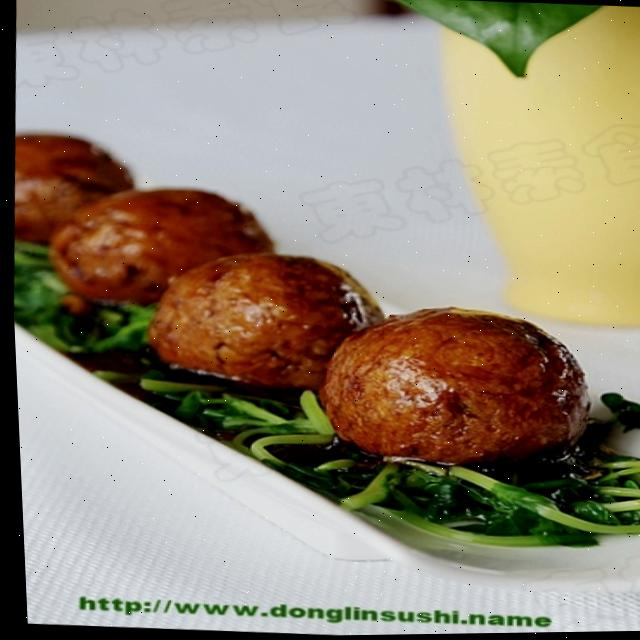猪肉菜式: (2, 37, 640, 587)
